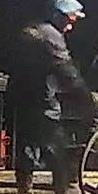vest: (10, 24, 66, 111)
